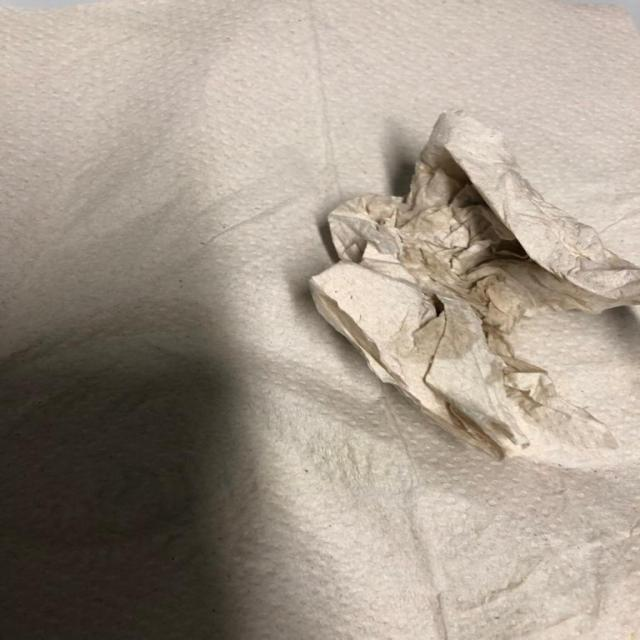kitchen paper: (303, 104, 640, 456)
